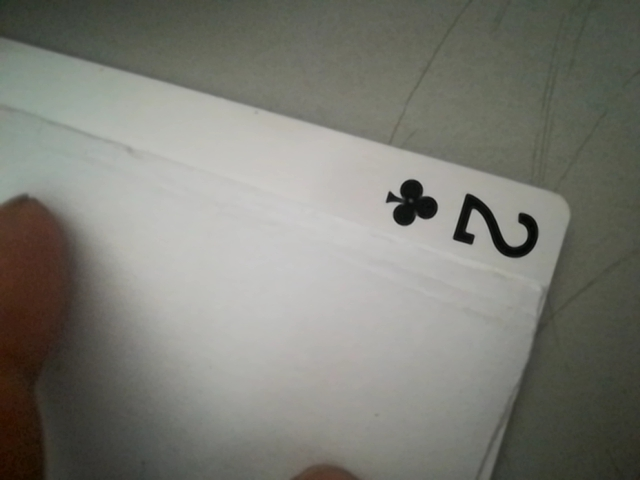mh 2: (373, 169, 550, 270)
